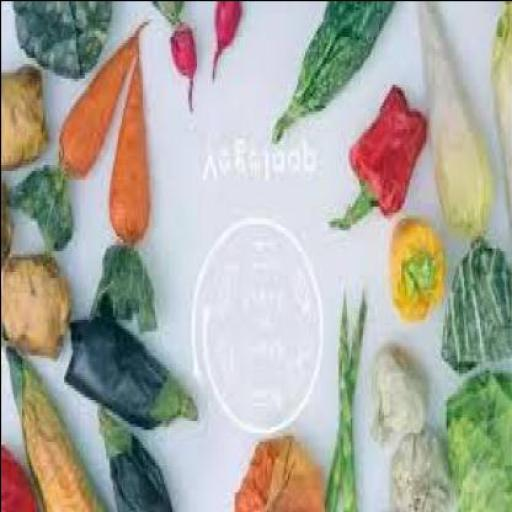paper: (4, 23, 136, 256), (86, 27, 156, 334), (414, 3, 491, 244), (267, 3, 391, 146), (4, 354, 113, 511), (62, 322, 196, 437), (326, 83, 426, 232), (442, 374, 512, 511), (439, 242, 510, 376), (324, 295, 363, 511), (10, 3, 109, 81), (96, 414, 172, 510), (230, 434, 323, 511), (1, 261, 70, 361), (387, 428, 454, 511), (367, 354, 423, 452), (390, 218, 440, 324), (148, 3, 194, 116), (491, 3, 511, 235), (2, 63, 44, 172), (334, 295, 350, 511), (208, 3, 240, 81), (1, 450, 41, 511), (0, 184, 11, 265)
